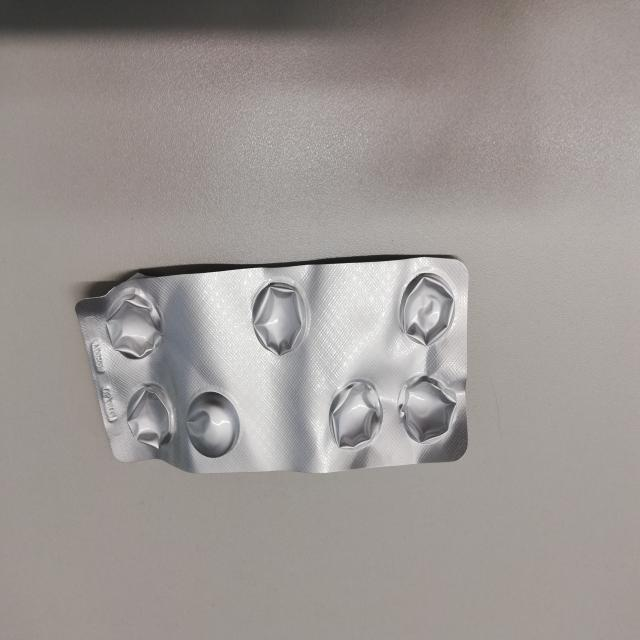Empty: (249, 278, 311, 358), (102, 290, 165, 362), (399, 270, 457, 348), (396, 373, 458, 443), (327, 377, 384, 451), (123, 383, 177, 452)
Pill: (183, 390, 242, 459)
